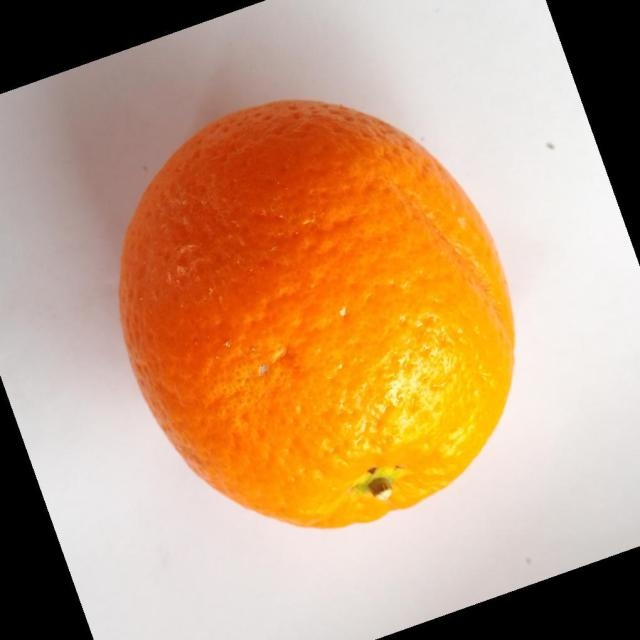agrume: (117, 97, 516, 530)
